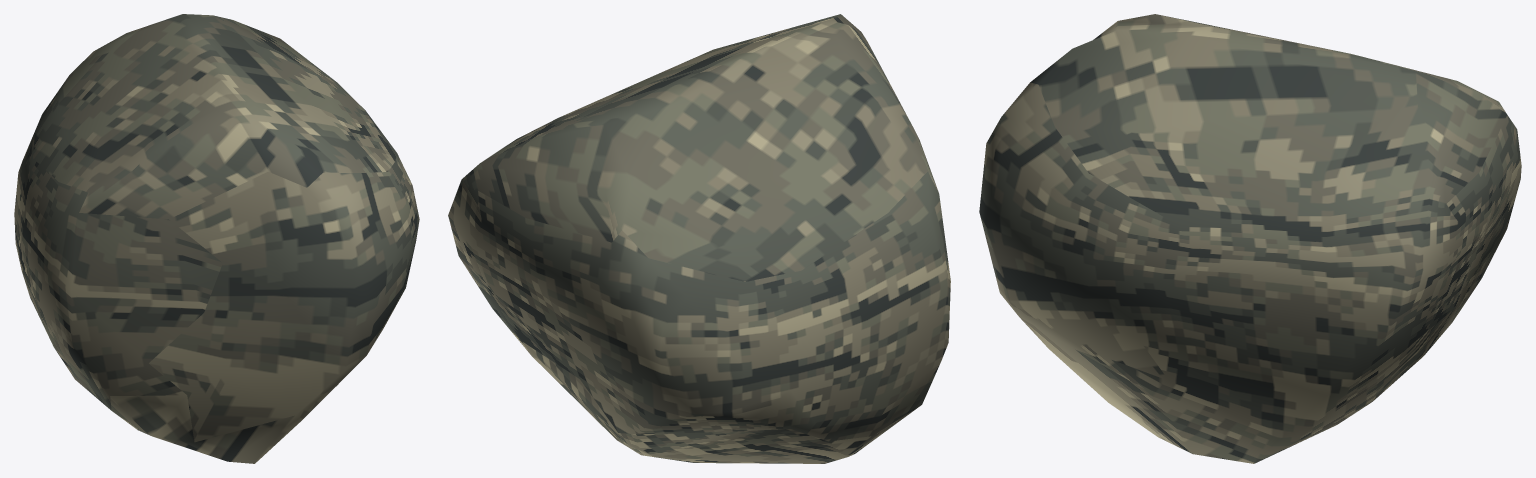
File: rockMedium01.fbx
The picture shows the model from 3 angles, left to right: view 1: azimuth 30°, elevation 25°; view 2: azimuth 150°, elevation 25°; view 3: azimuth 270°, elevation 25°; orthographic projection. The views are drawn at different scales.
Visible parts, largest first — view 1: RockMedium1; view 2: RockMedium1; view 3: RockMedium1.
Part boxes in pixels (box(x1,y1,x2,y2)): RockMedium1: box(14, 14, 419, 463); RockMedium1: box(448, 14, 950, 463); RockMedium1: box(979, 14, 1521, 463).
Bounding box in the file's own units: 29.76 × 29.83 × 35.43.
